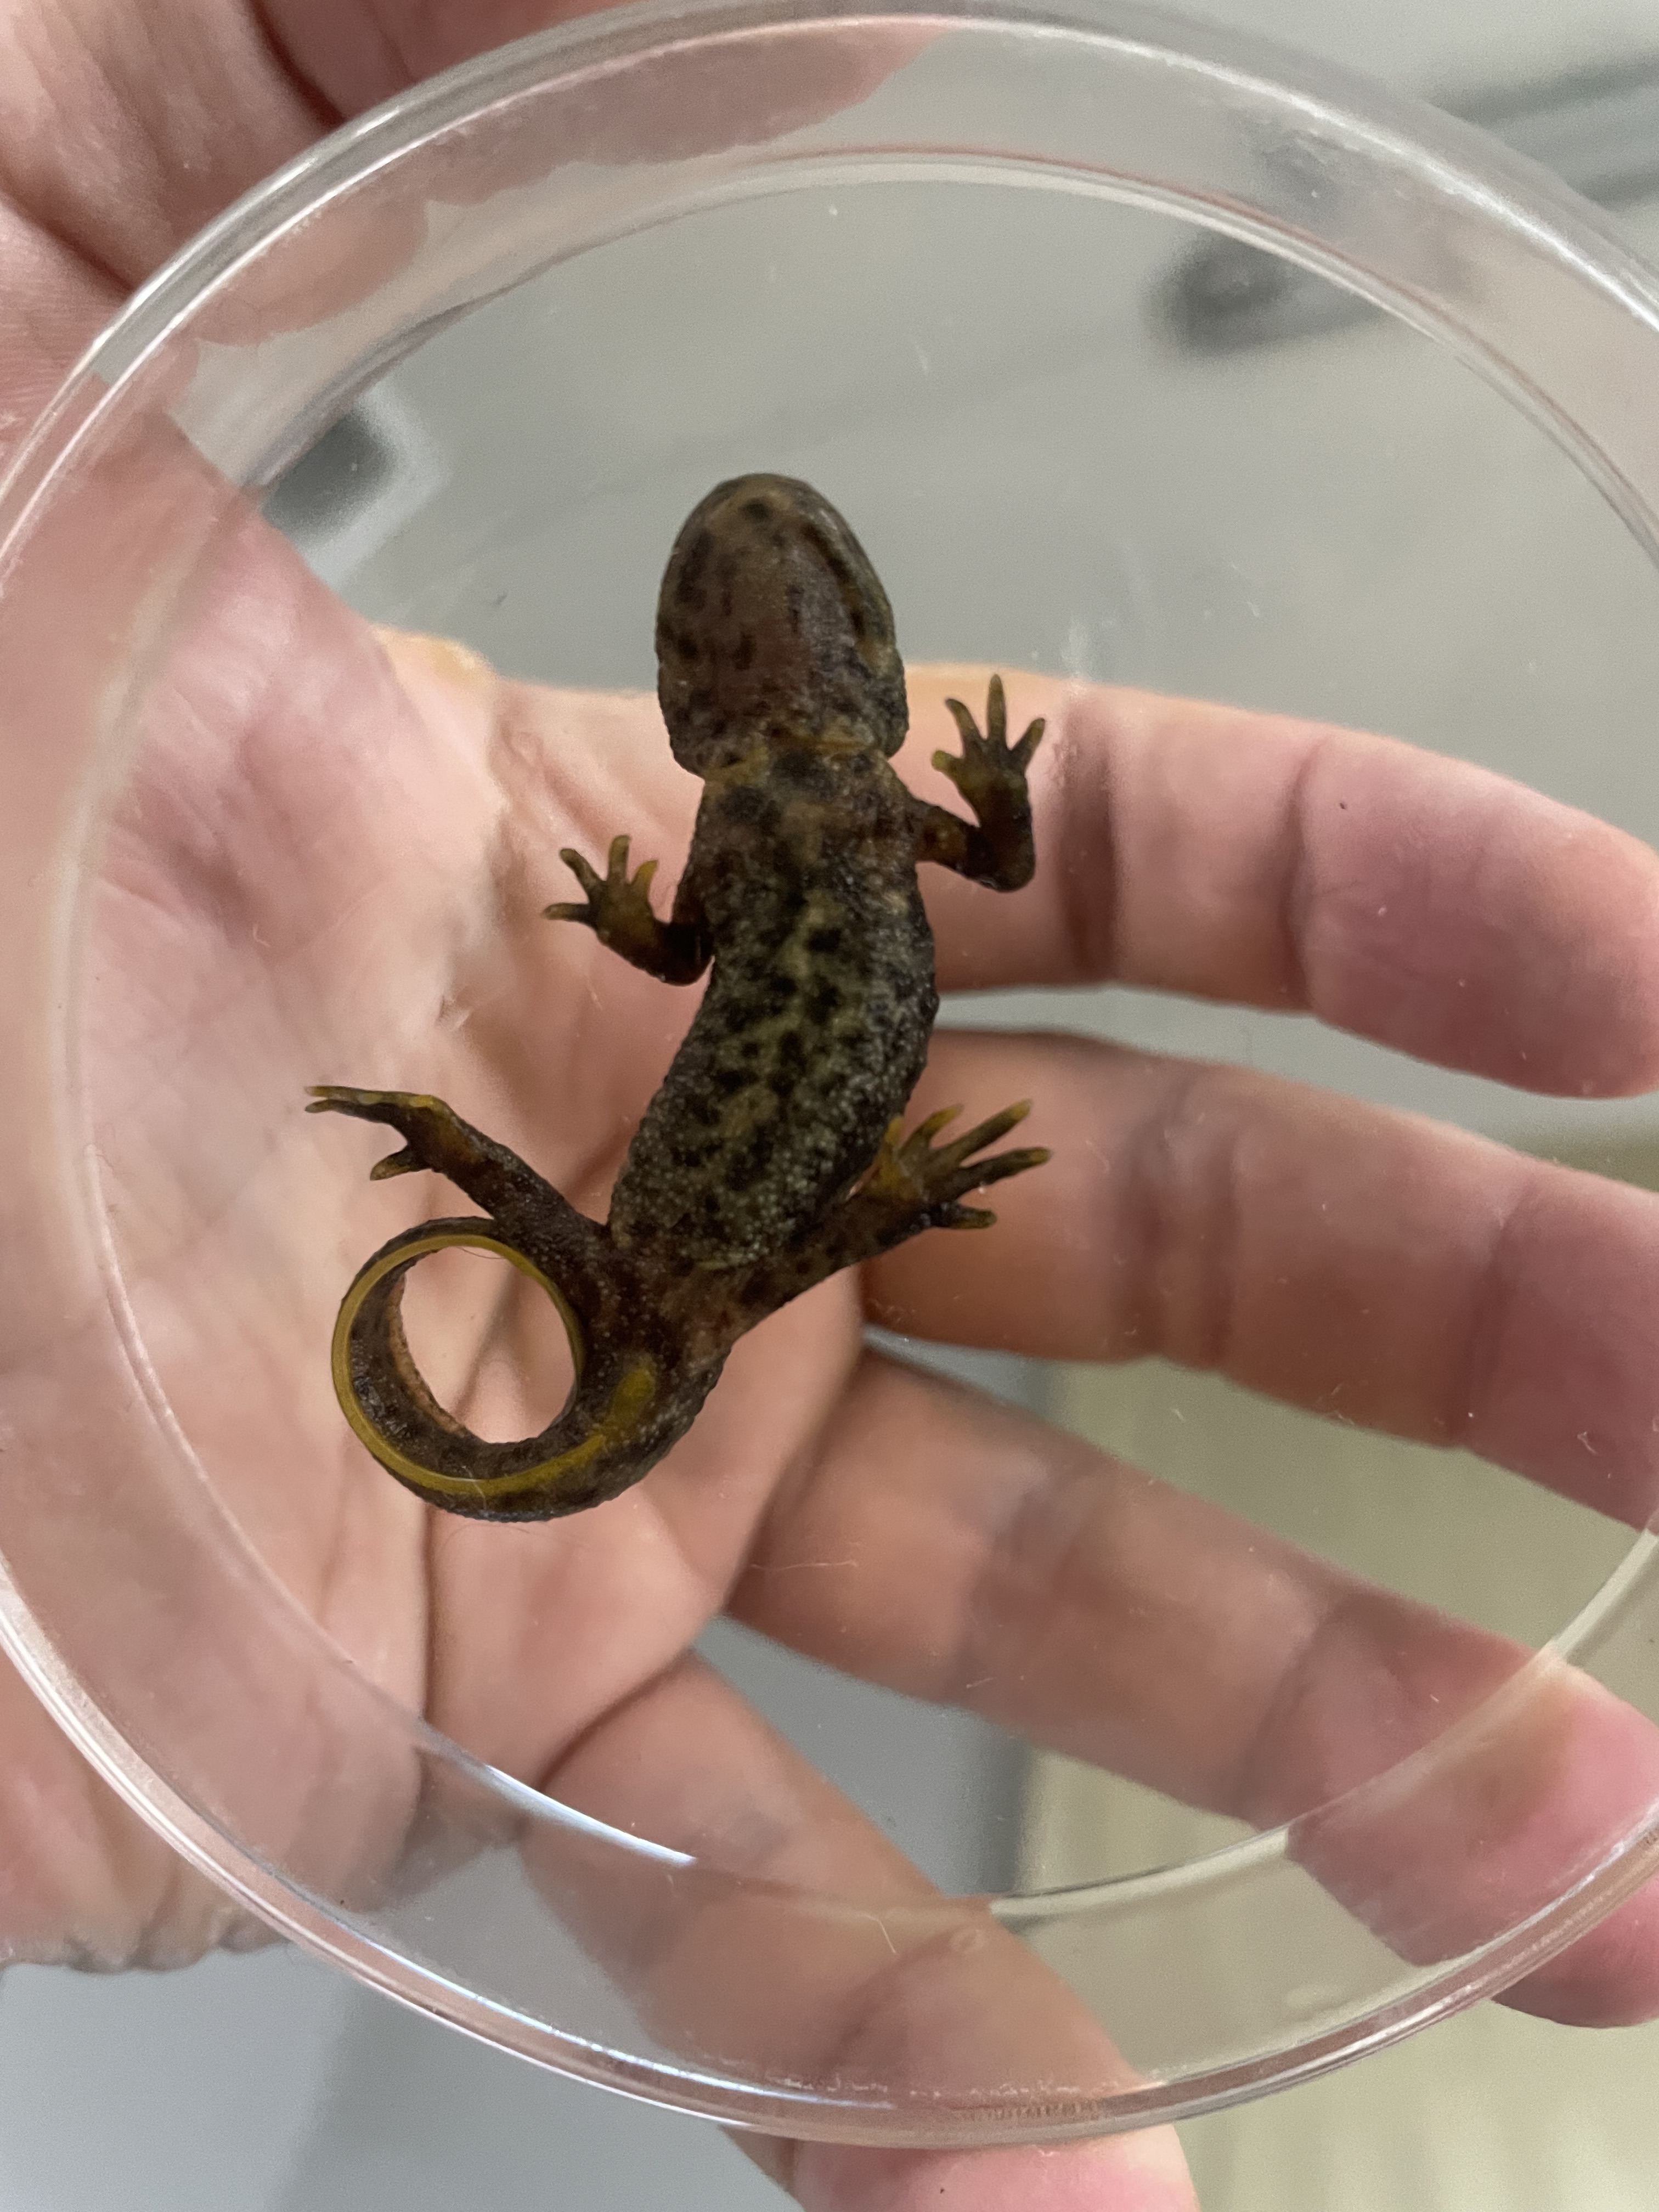newt_ribbed: (610, 853, 939, 1258)
